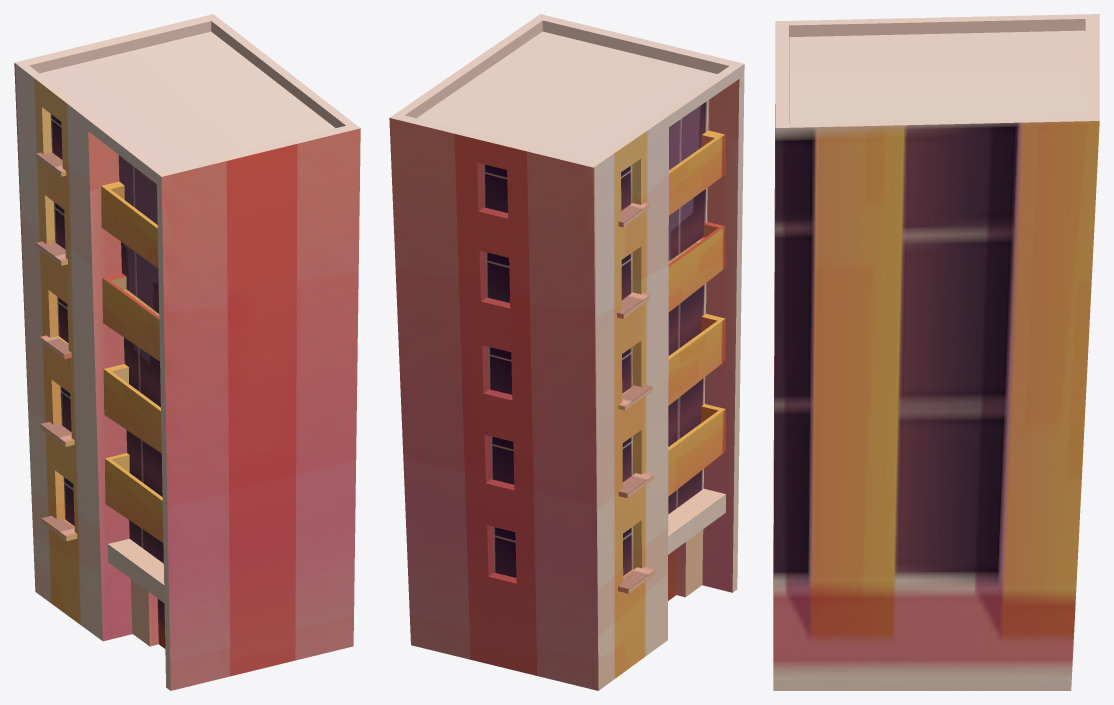
Rendered from city_block_c.glb.
3 views of the same model, side by side, from view 1: azimuth 30°, elevation 25°; view 2: azimuth 150°, elevation 25°; view 3: azimuth 270°, elevation 25° (orthographic). The views are drawn at different scales.
Visible parts, largest first — view 1: P00; view 2: P00; view 3: P00.
Part boxes in pixels (bbox=[...]): P00: bbox=[14, 14, 360, 690]; P00: bbox=[389, 14, 744, 690]; P00: bbox=[773, 14, 1099, 690].
Bounding box in the file's own units: 10.28 × 25.22 × 12.99.
Materials: 1 (1 with a texture image).
